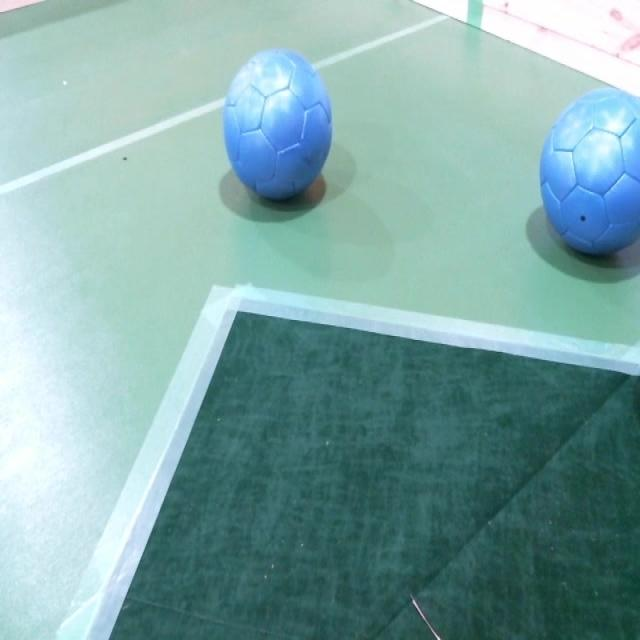blue_ball: (223, 48, 334, 206), (539, 88, 640, 258)
